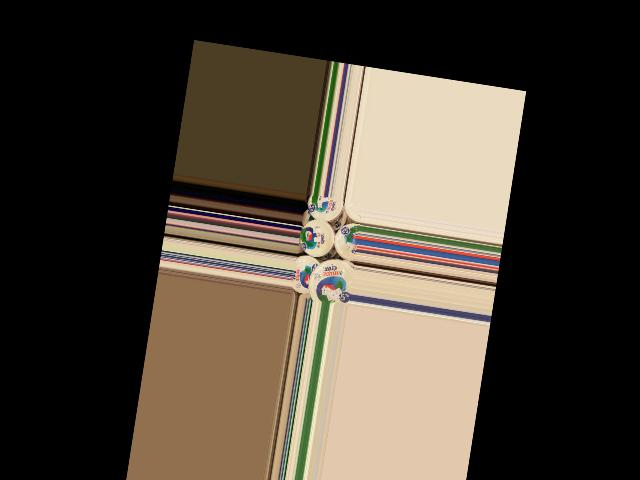cotage: (291, 251, 321, 295)
